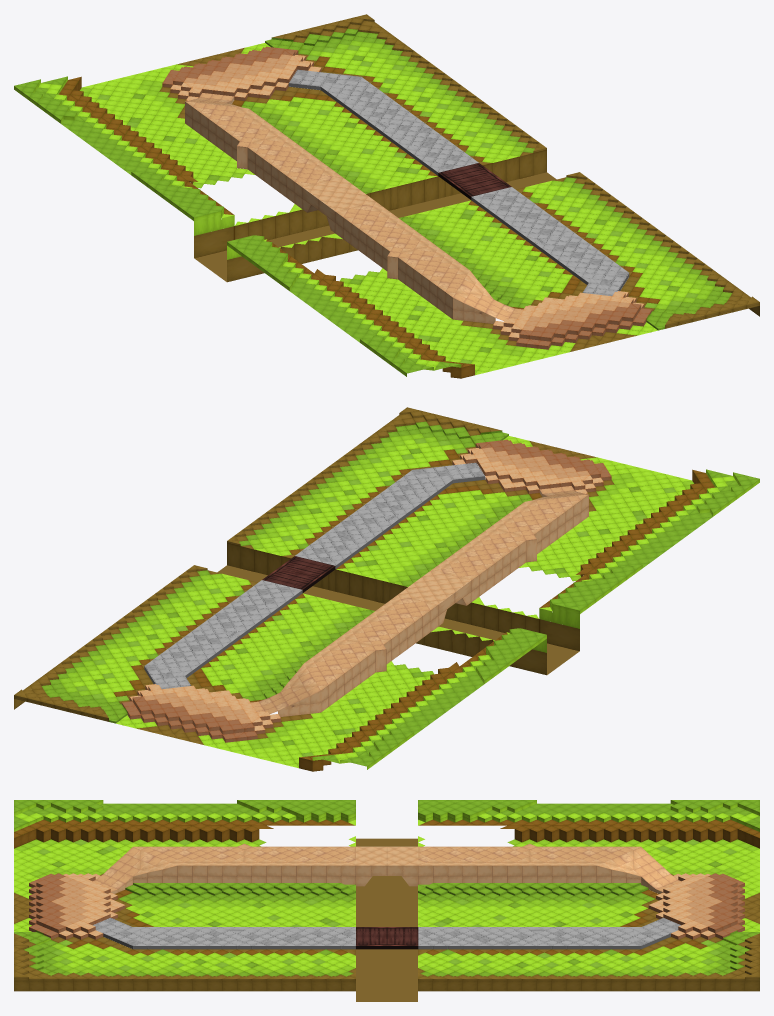
The model's file is newTerrain@Model.fbx.
The picture shows the model from 3 angles, top to bottom: view 1: azimuth 30°, elevation 25°; view 2: azimuth 150°, elevation 25°; view 3: azimuth 270°, elevation 25°; orthographic projection. The views are drawn at different scales.
Visible parts, largest first — view 1: map, Brigde2, Brigde, SpawnLeft, SpawnRight; view 2: map, Brigde2, Brigde, SpawnRight, SpawnLeft; view 3: map, Brigde2, Brigde, SpawnLeft, SpawnRight.
Boxes of the visible parts, x1,y1,x2,y2 form: map: [14, 14, 759, 378]; Brigde2: [185, 93, 523, 323]; Brigde: [288, 69, 629, 296]; SpawnLeft: [503, 292, 641, 337]; SpawnRight: [173, 47, 310, 93]; map: [14, 407, 759, 771]; Brigde2: [250, 486, 588, 717]; Brigde: [144, 462, 484, 689]; SpawnRight: [132, 685, 270, 730]; SpawnLeft: [463, 440, 600, 486]; map: [14, 800, 759, 1001]; Brigde2: [93, 843, 680, 893]; Brigde: [93, 917, 680, 949]; SpawnLeft: [36, 873, 110, 929]; SpawnRight: [663, 873, 737, 929].
Bounding box in the file's own units: 4122 × 495 × 7955.
